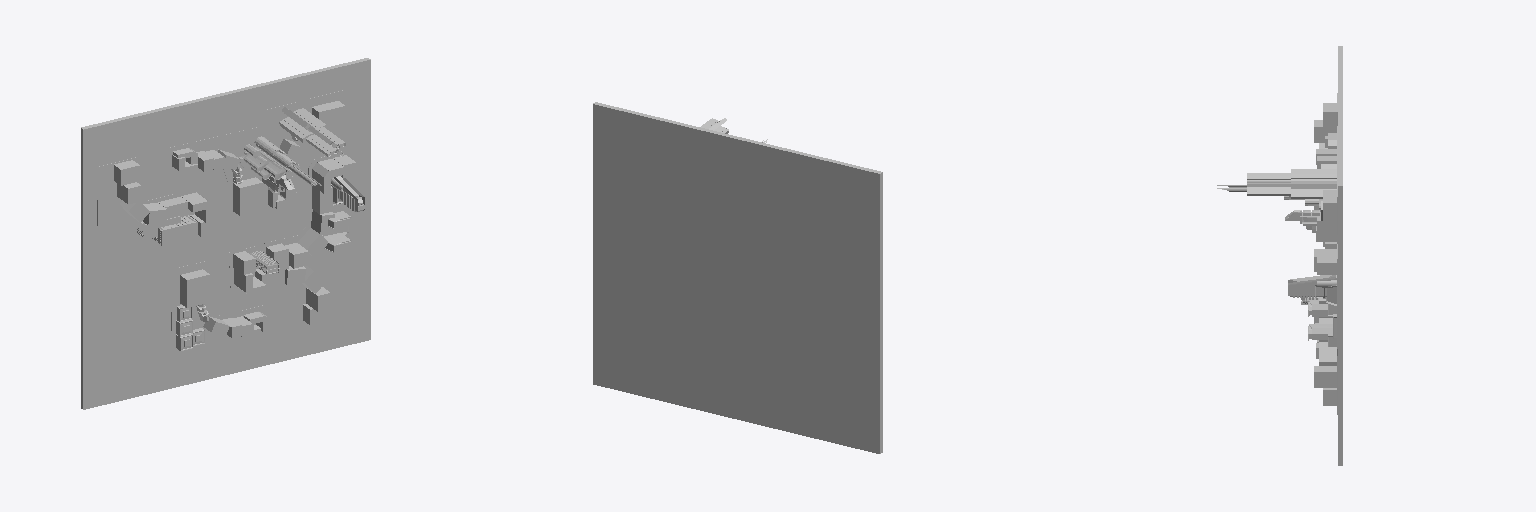
The model's file is city.obj.
The picture shows the model from 3 angles: view 1: azimuth 30°, elevation 25°; view 2: azimuth 150°, elevation 25°; view 3: azimuth 270°, elevation 25°; orthographic projection.
Parts seen in each view (by area): view 1: Object.1; view 2: Object.1; view 3: Object.1.
Boxes of the visible parts, <box> form: Object.1: <box>81,58,370,409</box>; Object.1: <box>593,102,882,453</box>; Object.1: <box>1217,46,1342,465</box>.
Bounding box in the file's own units: 2277 × 2124 × 871.